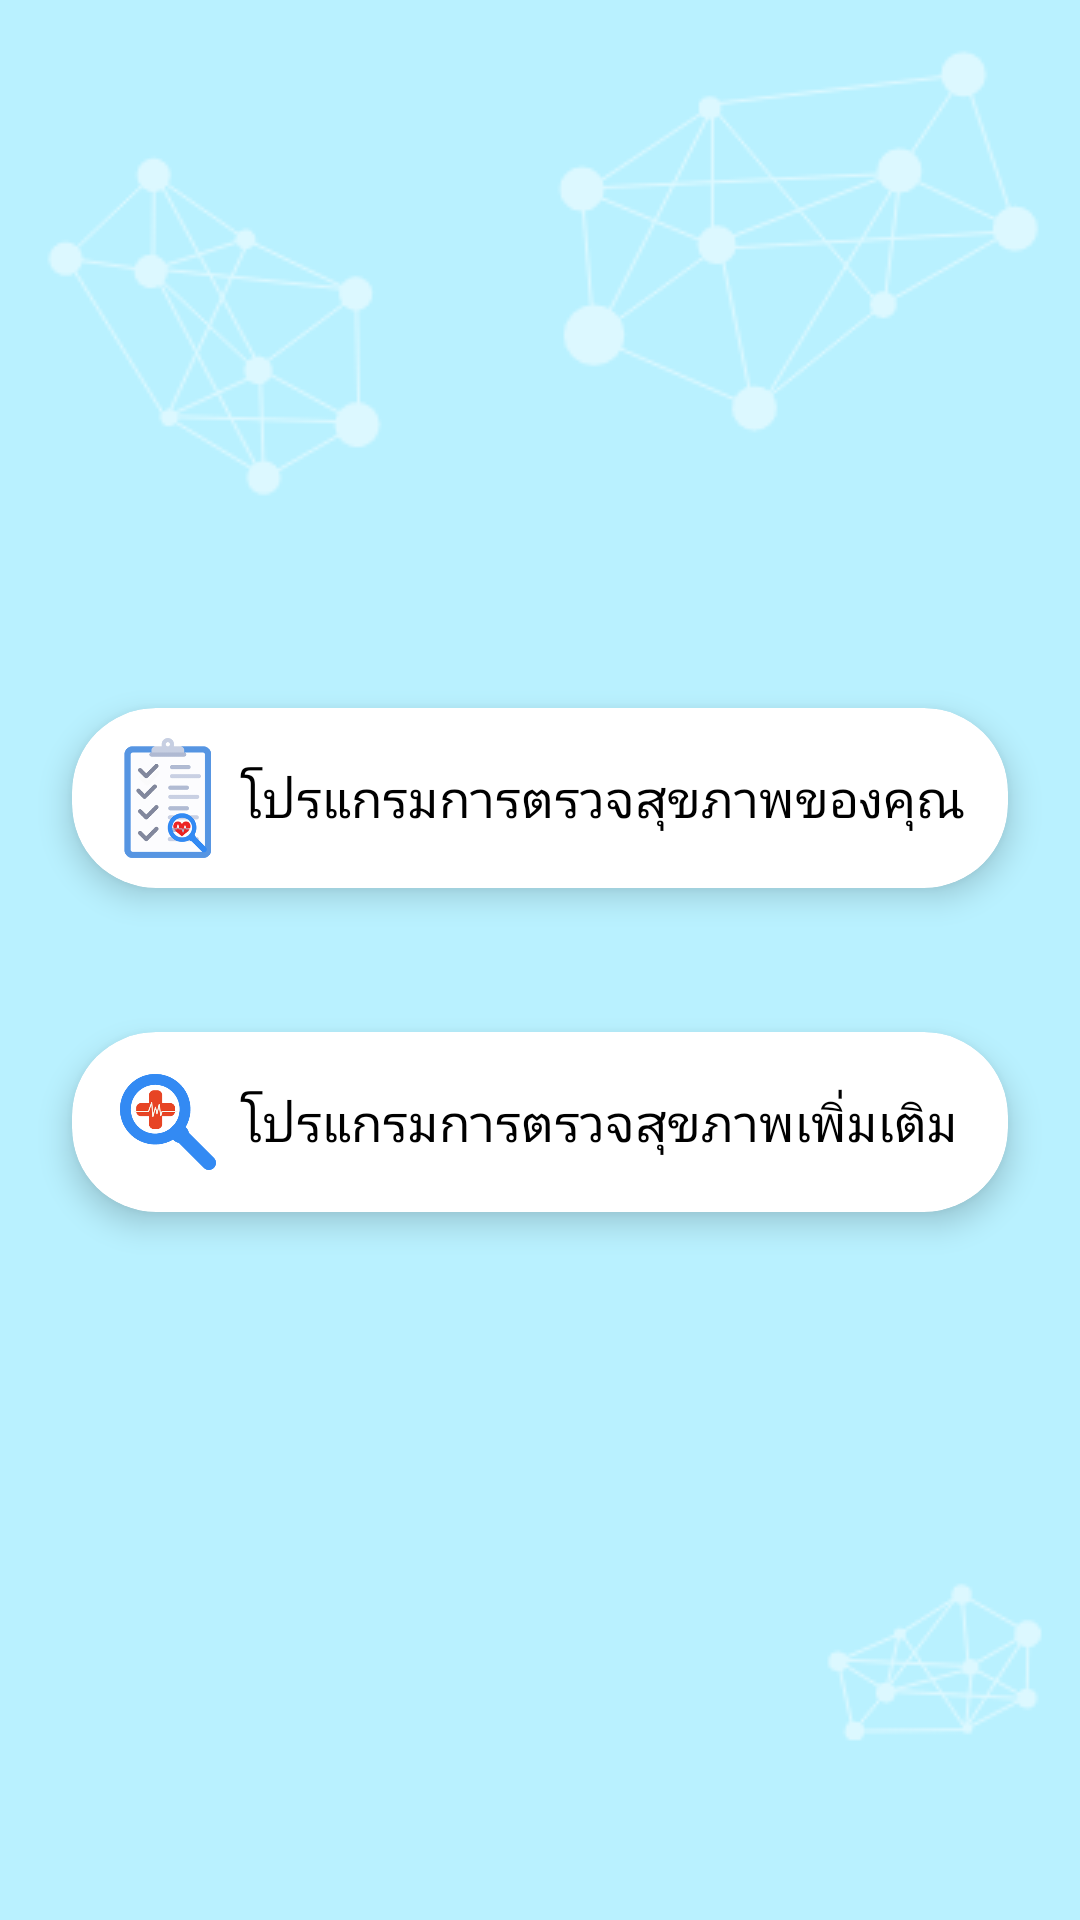

Icons on this 1080w x 1920h Android screen, each with the point to tap as (x=x, y=y):
checkup menu item: (x=167, y=798), (x=168, y=1122)
